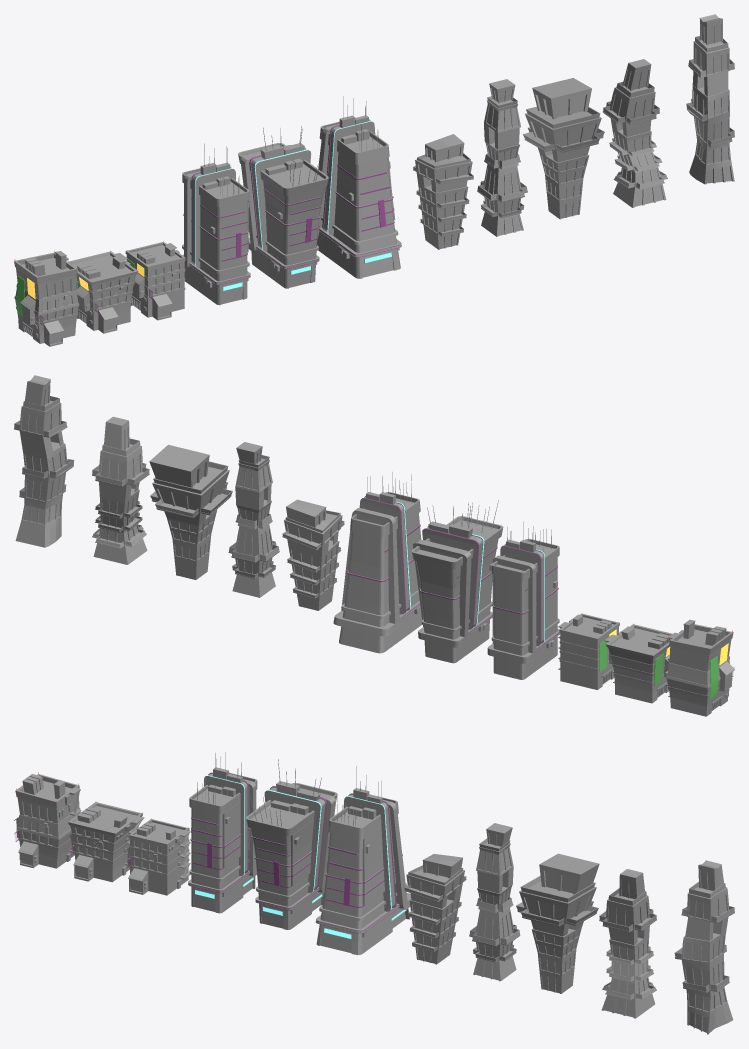
File: batiments.fbx
3 renders of one model, top to bottom at view 1: azimuth 30°, elevation 25°; view 2: azimuth 150°, elevation 25°; view 3: azimuth 330°, elevation 25°, orthographic.
Visible parts, largest first — view 1: base_immeuble (×3), batiment (×3), pCube75 (×3), bat06_01, bat03_01, bat05_01, bat04_04, bat02_01, bat04_01, bat04_05, bat05_04, bat02_04 (+6 smaller); view 2: base_immeuble (×3), batiment (×3), pCube75 (×3), bat06_01, bat03_01, bat05_01, bat04_04, bat02_01, bat04_01, bat05_04, bat04_05, bat06_04 (+6 smaller); view 3: base_immeuble (×3), batiment (×3), pCube75 (×3), bat06_01, bat03_01, bat05_01, bat04_04, bat02_01, bat04_01, Engine_toit (×3), bat04_05, bat05_04 (+9 smaller).
Boxes of the visible parts, x1,y1,x2,y2 form: base_immeuble (×3): (182,121,401,305); batiment (×3): (14,242,185,343); pCube75 (×3): (182,119,375,268); bat06_01: (686,85,734,184); bat03_01: (477,141,527,236); bat05_01: (609,127,667,207); bat04_04: (523,106,604,152); bat02_01: (416,184,469,249); bat04_01: (539,152,589,219); bat04_05: (532,78,591,119); bat05_04: (602,82,659,124); bat02_04: (413,153,473,184); base_immeuble (×3): (339,492,560,679); batiment (×3): (559,613,733,716); pCube75 (×3): (333,496,544,663); bat06_01: (15,442,74,547); bat03_01: (228,499,279,597); bat05_01: (92,488,147,564); bat04_04: (150,461,232,518); bat02_01: (287,540,341,610); bat04_01: (167,510,216,579); bat05_04: (92,438,149,487); bat04_05: (149,444,209,487); bat06_04: (14,396,67,437); base_immeuble (×3): (188,772,409,954); batiment (×3): (15,774,189,895); pCube75 (×3): (204,772,411,911); bat06_01: (674,931,733,1034); bat03_01: (469,885,520,981); bat05_01: (601,935,656,1018); bat04_04: (516,875,598,926); bat02_01: (407,896,461,964); bat04_01: (531,926,581,993); Engine_toit (×3): (208,767,382,819); bat04_05: (539,853,599,894); bat05_04: (599,888,656,932).
Size of the model in its own units: 153 by 33.22 by 19.55.
